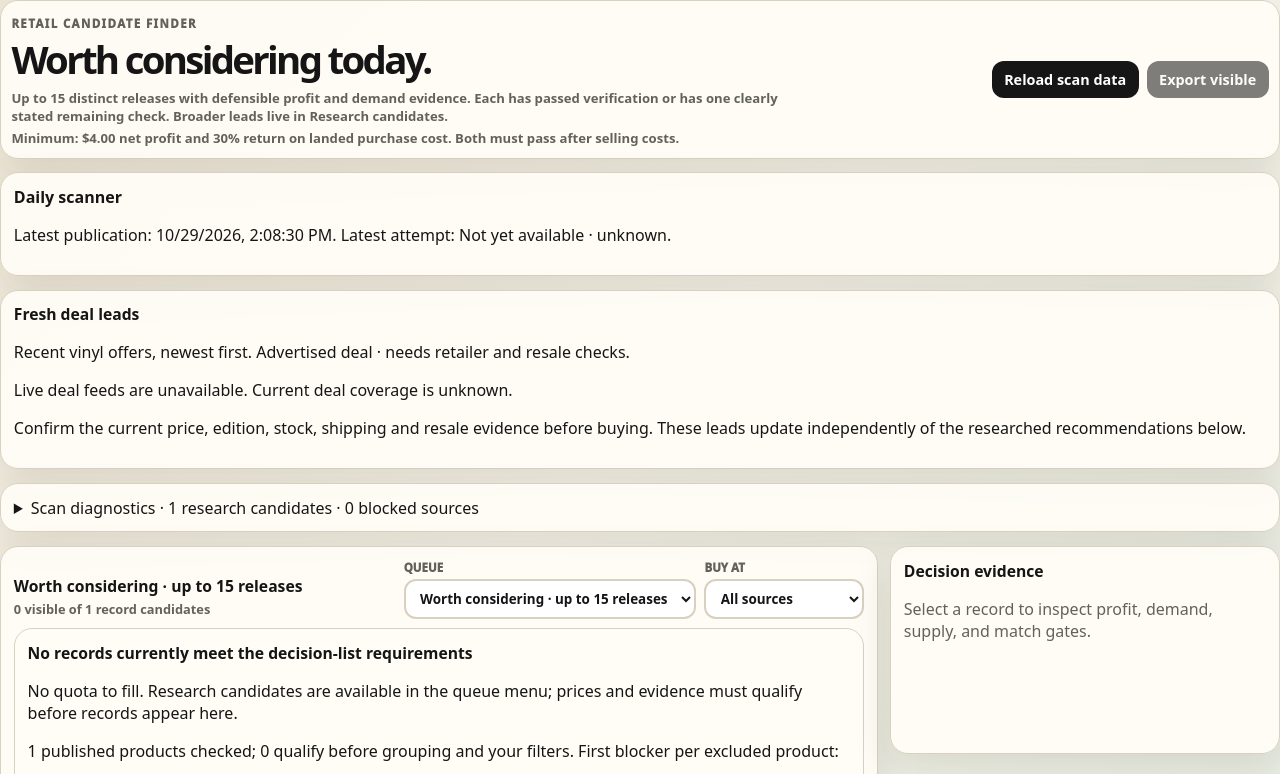
Test: arbitrage pages › acknowledges three observed album purchases when exact sold and supply checks are still missing
The width and height of the screenshot is (1280, 774).
Step 1. Select "Research candidates" in the dropdown labelled "Queue" → (550, 599), box [404, 579, 696, 619]
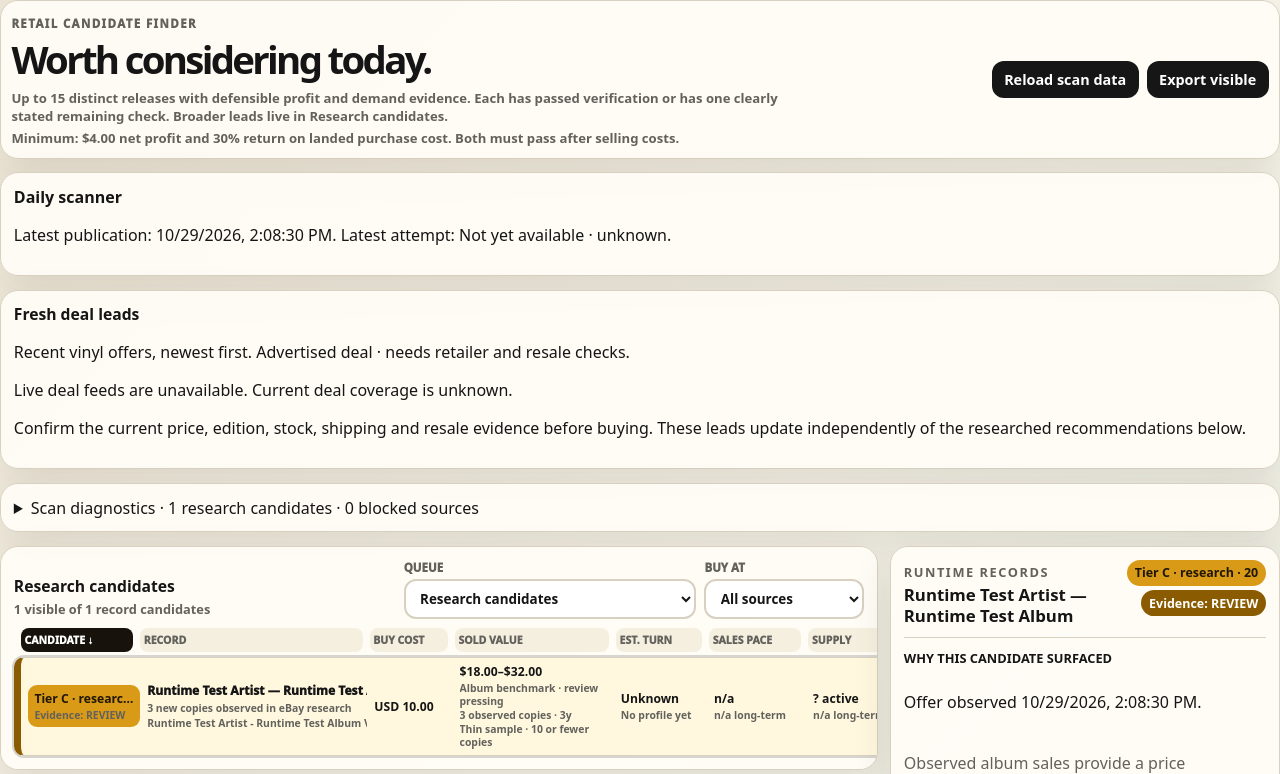
Result: the element with class "arbitrage-title" shows "3 new copies observed in eBay research" at [147, 701, 352, 715]
